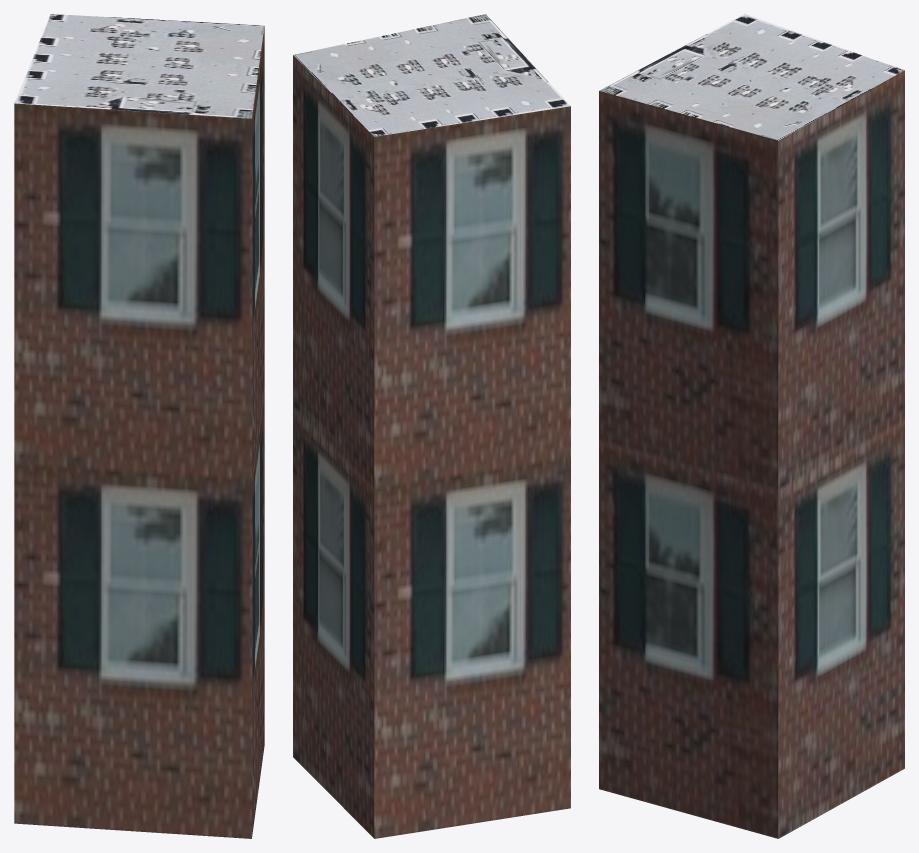
Rendered from ResTex__482.fbx.
The picture shows the model from 3 angles, left to right: view 1: azimuth 30°, elevation 25°; view 2: azimuth 150°, elevation 25°; view 3: azimuth 270°, elevation 25°; orthographic projection. The views are drawn at different scales.
Visible parts, largest first — view 1: CityEngineMaterial_14_m, CityEngineMaterial_8_m; view 2: CityEngineMaterial_14_m, CityEngineMaterial_8_m; view 3: CityEngineMaterial_14_m, CityEngineMaterial_8_m.
Boxes of the visible parts, box(x1,y1,x2,y2) form: CityEngineMaterial_14_m: box(14, 26, 264, 838); CityEngineMaterial_8_m: box(14, 14, 264, 118); CityEngineMaterial_14_m: box(293, 55, 570, 838); CityEngineMaterial_8_m: box(293, 14, 570, 136); CityEngineMaterial_14_m: box(599, 70, 904, 838); CityEngineMaterial_8_m: box(599, 14, 904, 140).
Bounding box in the file's own units: 2.33 × 6 × 2.38.
Materials: 2 (2 with a texture image).
